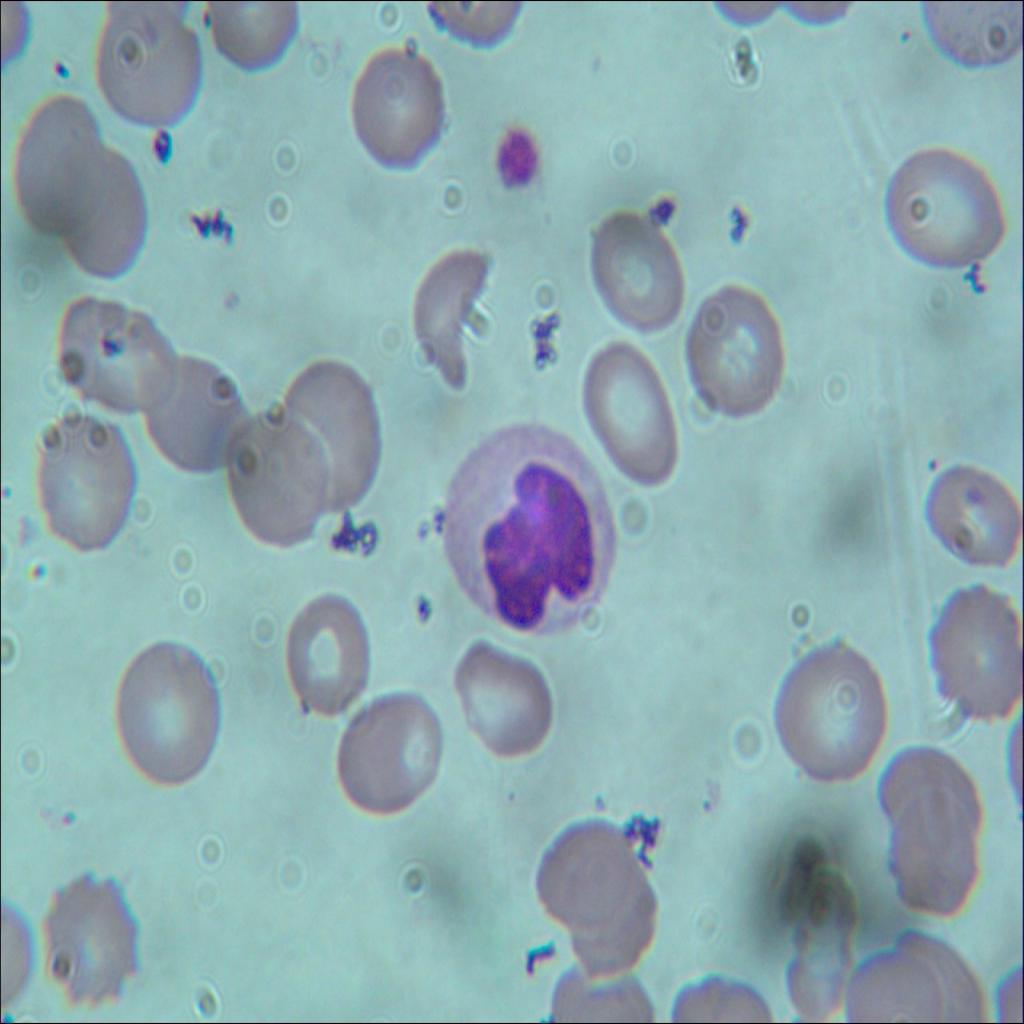Eritrosit: (879, 142, 1015, 280), (572, 335, 686, 497), (918, 568, 1023, 737), (108, 637, 222, 790), (775, 627, 883, 784), (341, 29, 455, 174), (678, 277, 786, 429), (224, 405, 330, 555), (334, 694, 455, 824), (448, 637, 562, 774), (286, 352, 382, 511), (54, 291, 175, 414), (38, 414, 138, 561), (578, 198, 682, 337), (873, 728, 993, 845), (94, 4, 206, 127), (38, 878, 144, 1007), (138, 357, 251, 478), (782, 864, 863, 1022), (412, 242, 502, 384), (58, 148, 151, 284), (271, 588, 375, 708), (531, 812, 633, 931), (922, 455, 1023, 574), (18, 92, 100, 234), (893, 795, 978, 912), (195, 0, 316, 77), (578, 865, 659, 974), (848, 935, 936, 1023)
Limfoblast: (436, 414, 621, 638)
Platelet: (495, 114, 542, 201), (44, 50, 86, 100), (895, 15, 922, 50)
